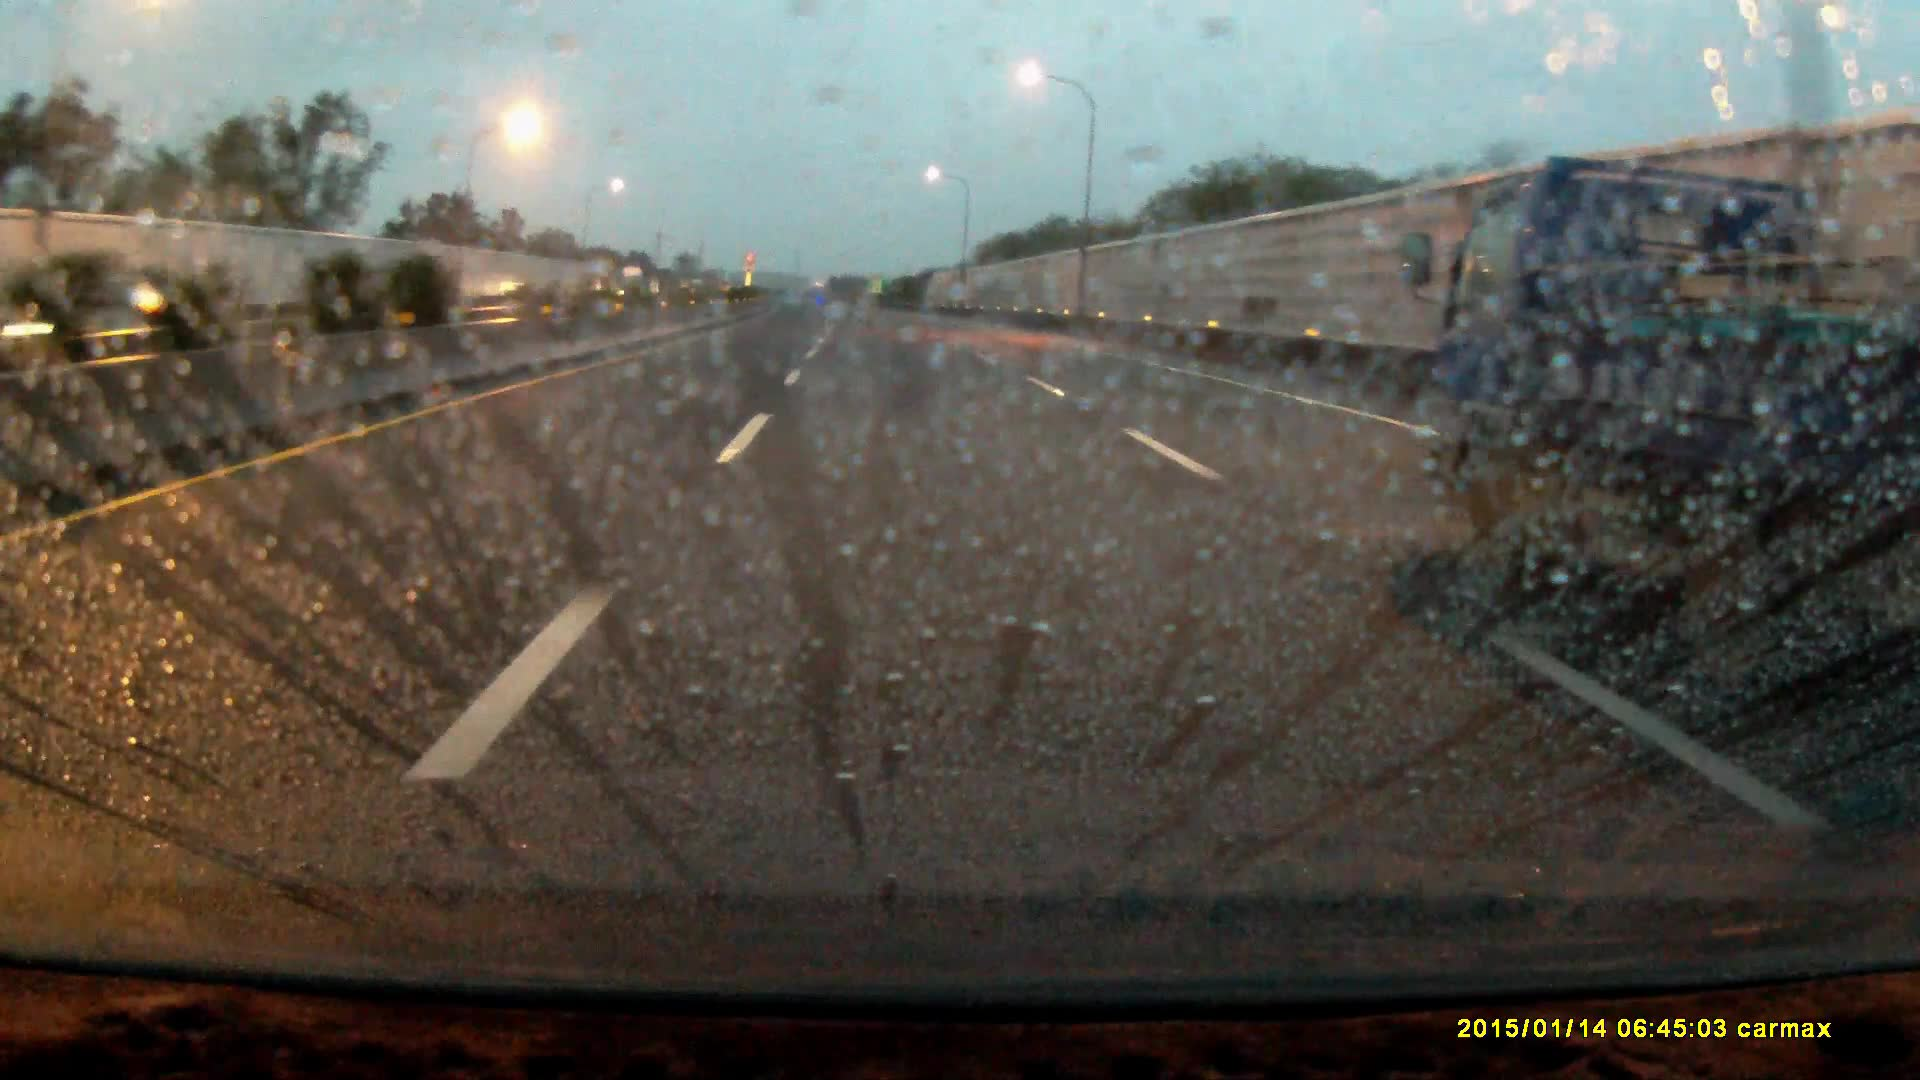vehicle: (1429, 164, 1920, 613), (33, 276, 167, 356), (620, 268, 653, 303)
